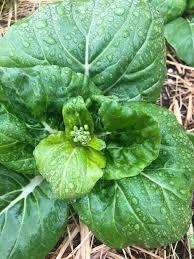Healthy-Pechay: (0, 0, 155, 223), (102, 97, 194, 249), (0, 201, 65, 259)
